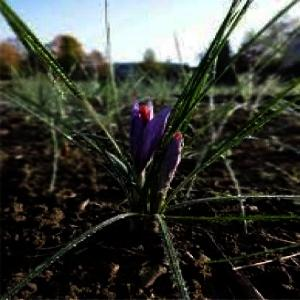Saffron: (130, 100, 170, 178), (154, 132, 188, 196)
